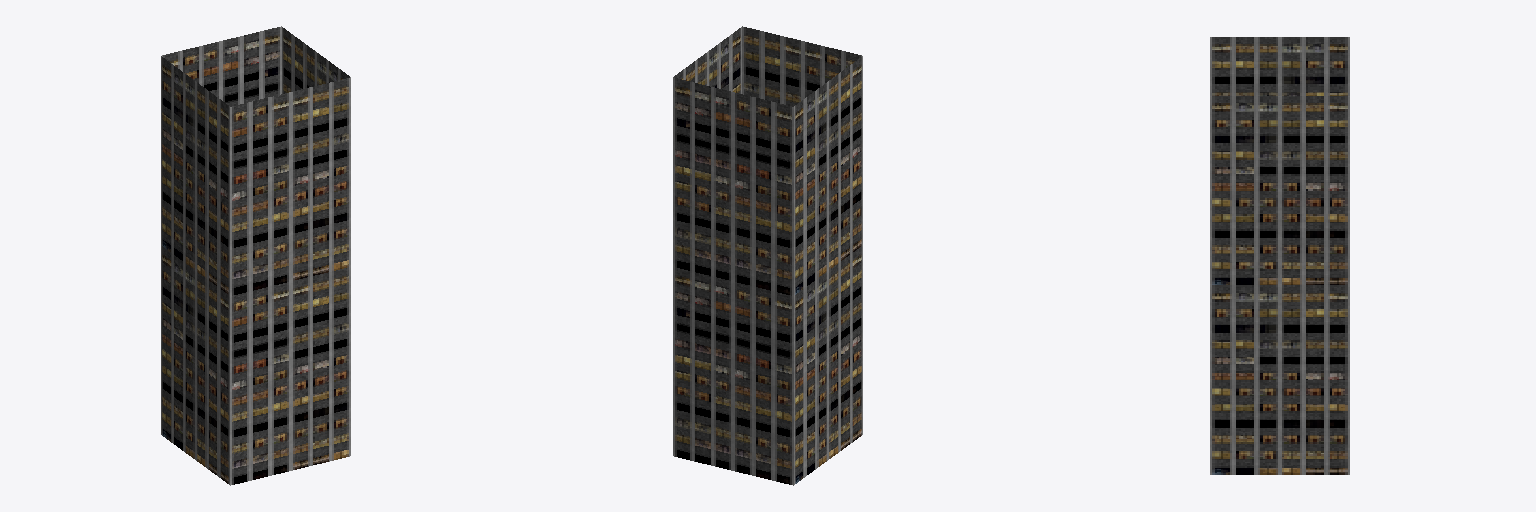
3 renders of one model, left to right at view 1: azimuth 30°, elevation 25°; view 2: azimuth 150°, elevation 25°; view 3: azimuth 270°, elevation 25°, orthographic.
Parts seen in each view (by area): view 1: building_01.1; view 2: building_01.1; view 3: building_01.1.
Boxes of the visible parts, x1=… form: building_01.1: x1=161, y1=26, x2=350, y2=485; building_01.1: x1=673, y1=26, x2=862, y2=485; building_01.1: x1=1210, y1=37, x2=1349, y2=474.
Bounding box in the file's own units: 25 × 73 × 25.
Materials: 1 (1 with a texture image).